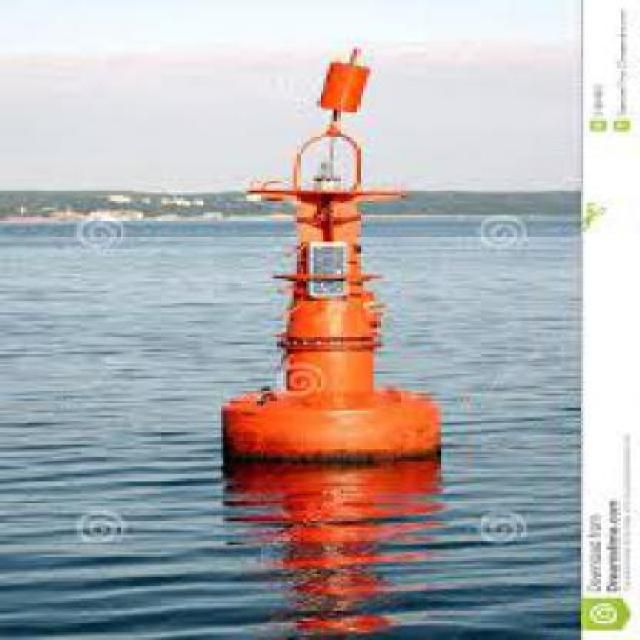buoy: (211, 45, 454, 465)
